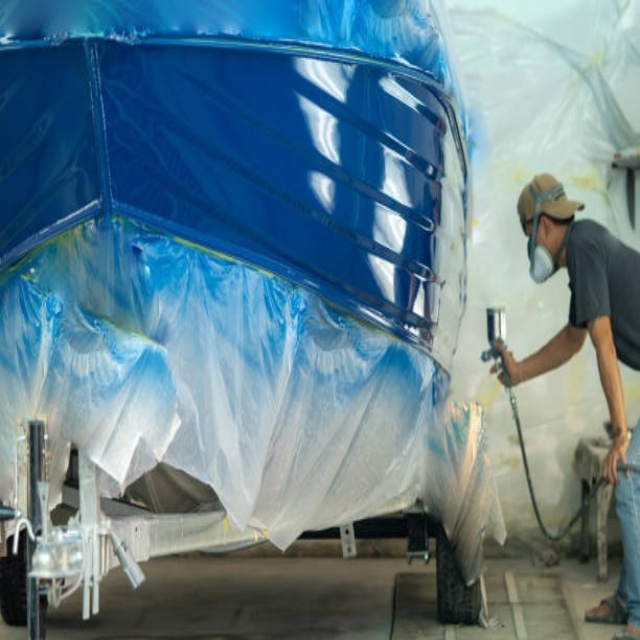Mascara: (528, 240, 555, 283)
Sin_guantes: (602, 429, 631, 485), (495, 353, 519, 389)
